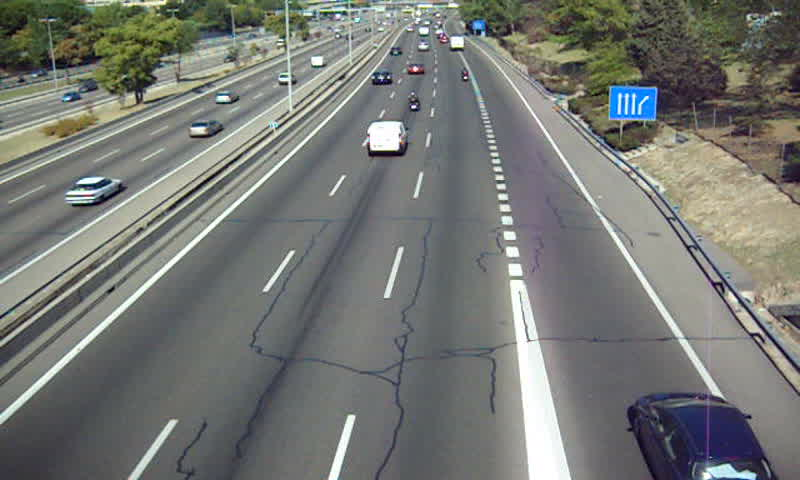car: (632, 393, 774, 480), (370, 69, 394, 87), (406, 64, 424, 77)
motorcycle: (405, 92, 420, 114), (460, 67, 470, 86)
van: (367, 120, 406, 158), (451, 34, 464, 52)
